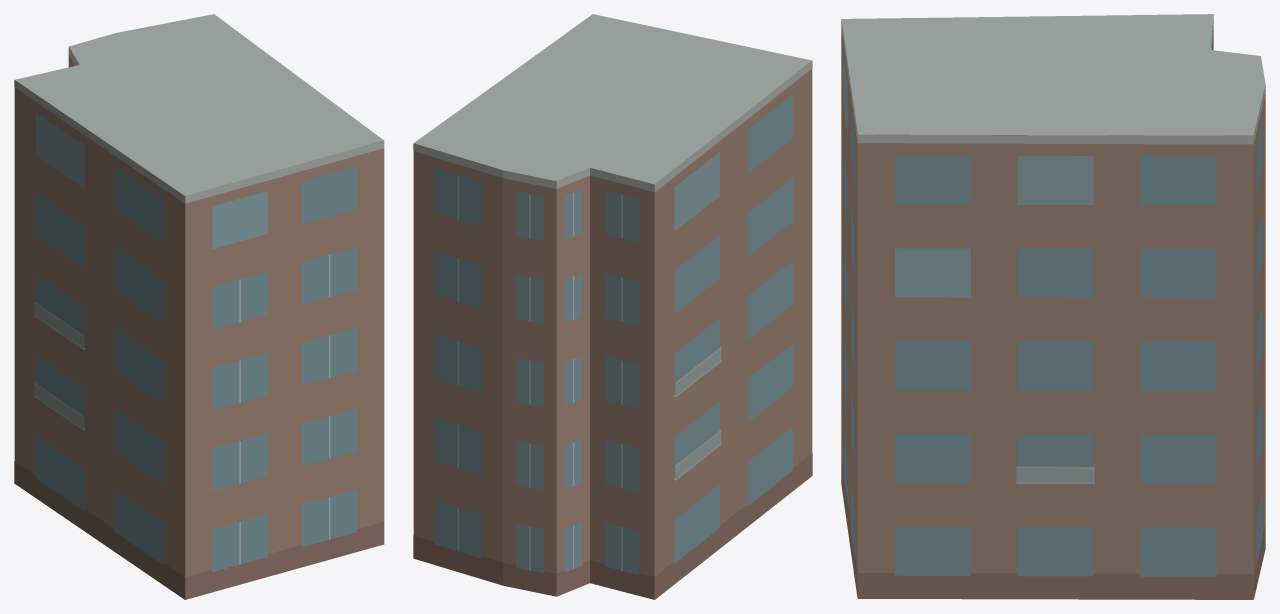
File: survey-upis-32640675.glb
3 renders of one model, left to right at view 1: azimuth 30°, elevation 25°; view 2: azimuth 150°, elevation 25°; view 3: azimuth 270°, elevation 25°, orthographic. The views are drawn at different scales.
Visible parts, largest first — view 1: survey-upis-32640675.tmp; view 2: survey-upis-32640675.tmp; view 3: survey-upis-32640675.tmp.
Part boxes in pixels (box(x1,y1,x2,y2)): survey-upis-32640675.tmp: box(14, 14, 384, 599); survey-upis-32640675.tmp: box(413, 14, 812, 599); survey-upis-32640675.tmp: box(841, 14, 1265, 599).
Size of the model in its own units: 7.33 by 13 by 10.78.
